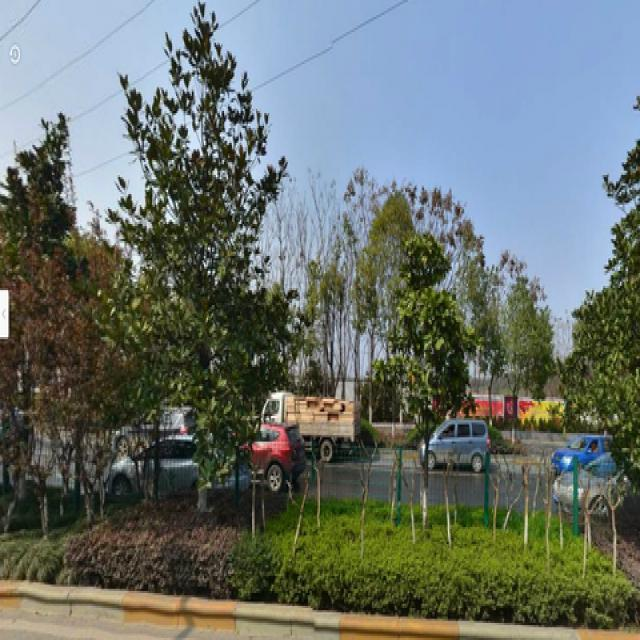magn: (131, 26, 264, 520)
